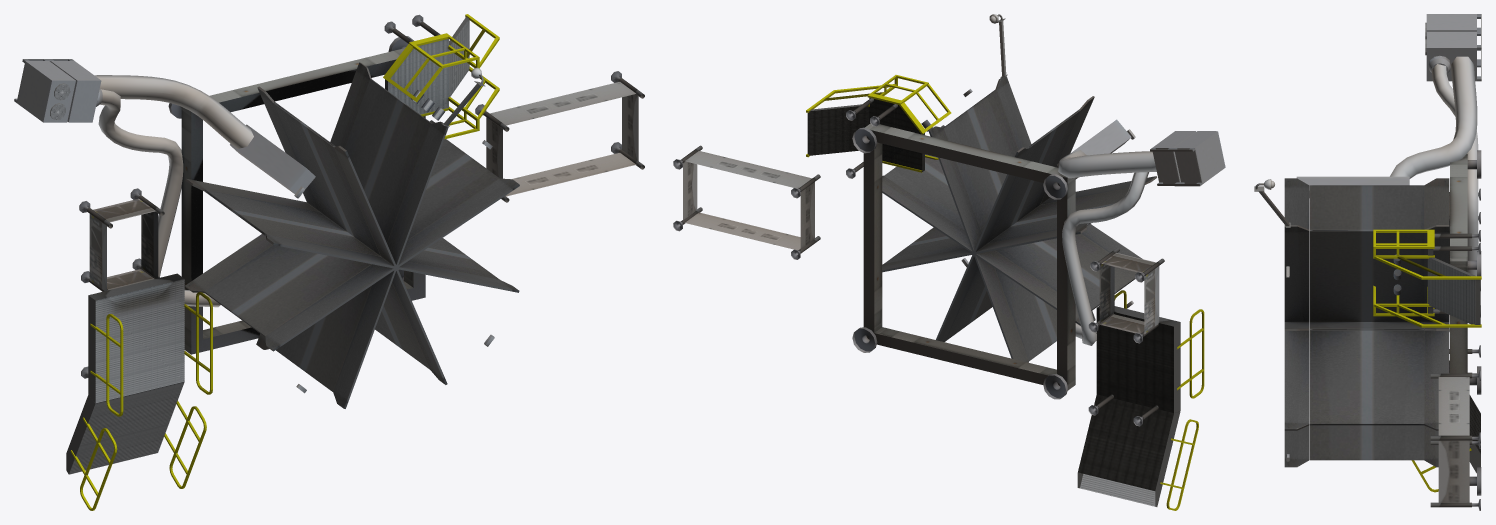
File: HDU_Deck.OBJ
3 renders of one model, left to right at view 1: azimuth 30°, elevation 25°; view 2: azimuth 150°, elevation 25°; view 3: azimuth 270°, elevation 25°, orthographic. The views are drawn at different scales.
Parts seen in each view (by area): view 1: /ambf/env/HDU_Deck_HDU_Deck_HDU_lowRez_part2; view 2: /ambf/env/HDU_Deck_HDU_Deck_HDU_lowRez_part2; view 3: /ambf/env/HDU_Deck_HDU_Deck_HDU_lowRez_part2.
Boxes of the visible parts, x1,y1,x2,y2 form: /ambf/env/HDU_Deck_HDU_Deck_HDU_lowRez_part2: [14, 14, 644, 510]; /ambf/env/HDU_Deck_HDU_Deck_HDU_lowRez_part2: [673, 14, 1225, 510]; /ambf/env/HDU_Deck_HDU_Deck_HDU_lowRez_part2: [1254, 14, 1481, 510].
Bounding box in the file's own units: 6.1 × 4.26 × 2.1.
